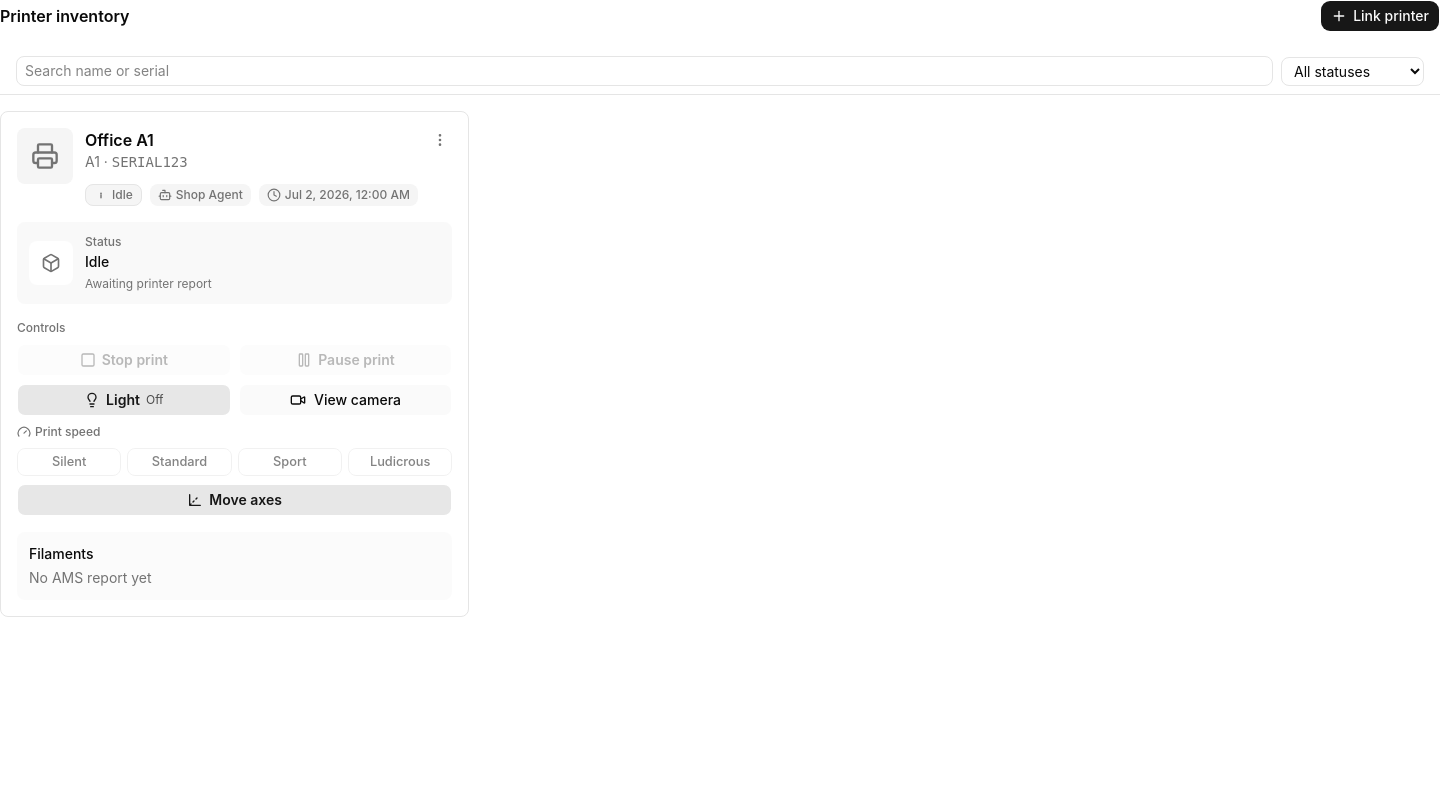
PrinterInventory › opens an edit printer dialog from the printer actions popover
This screenshot has width=1440, height=810.
Click the button named "Actions for Office A1".
click(440, 140)  # box [428,128,452,152]
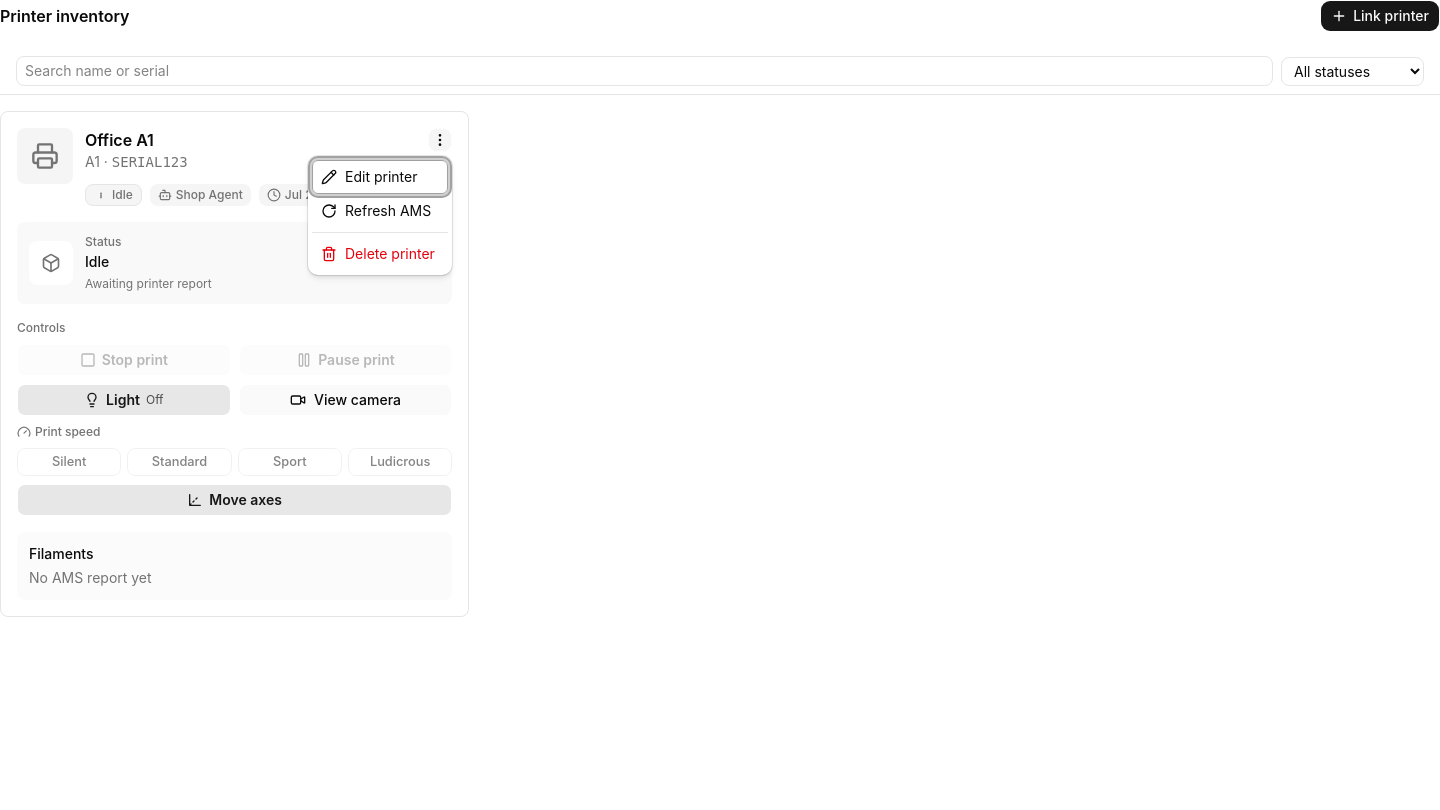
Click the button "Edit printer".
click(380, 177)  # box [312,160,448,194]
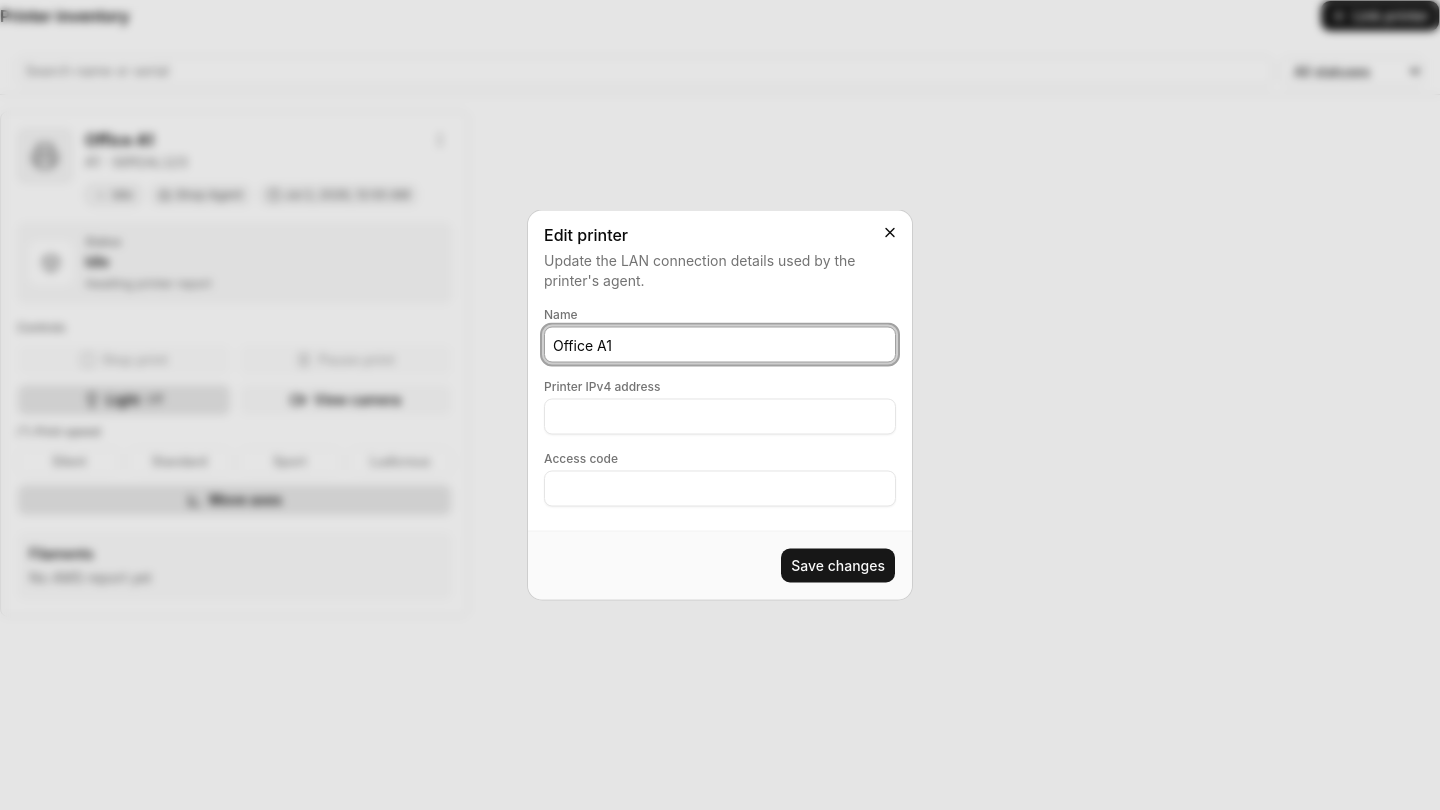
expect the heading "Edit printer" is shown: met, box [544,224,628,244]
expect the dialog is shown: met, box [528,210,912,600]
expect the field labelled "Name" holds "Office A1": met, box [544,326,896,362]
